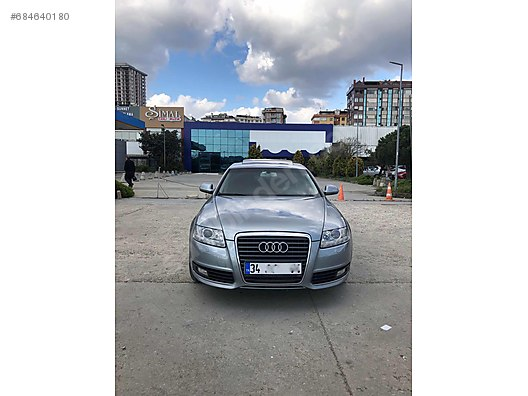audi: (254, 240, 292, 255)
